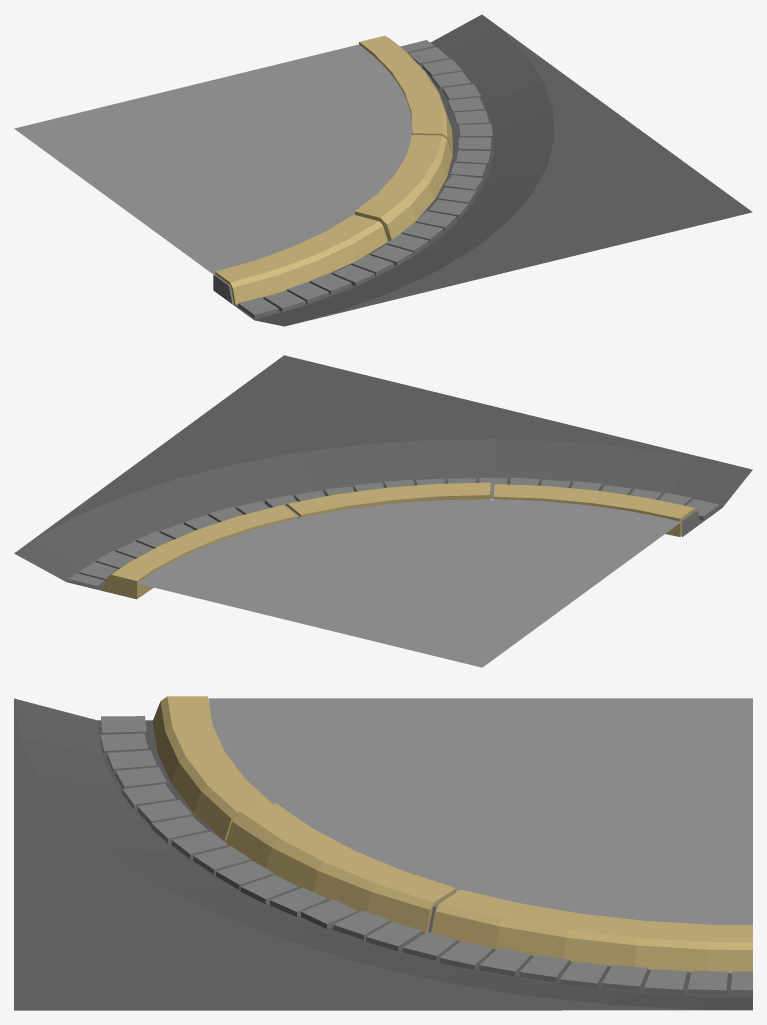
Rendered from SM_sidewalk_01_corner.glb.
3 views of the same model, one above another, from view 1: azimuth 30°, elevation 25°; view 2: azimuth 150°, elevation 25°; view 3: azimuth 270°, elevation 25° (orthographic). The views are drawn at different scales.
Parts seen in each view (by area): view 1: SM_sidewalk_01_corner; view 2: SM_sidewalk_01_corner; view 3: SM_sidewalk_01_corner.
Part boxes in pixels (<box>): SM_sidewalk_01_corner: <box>14,14,752,326</box>; SM_sidewalk_01_corner: <box>14,355,752,667</box>; SM_sidewalk_01_corner: <box>14,696,752,1010</box>.
Bounding box in the file's own units: 4 × 0.1651 × 4.
Materials: 1 (1 with a texture image).
